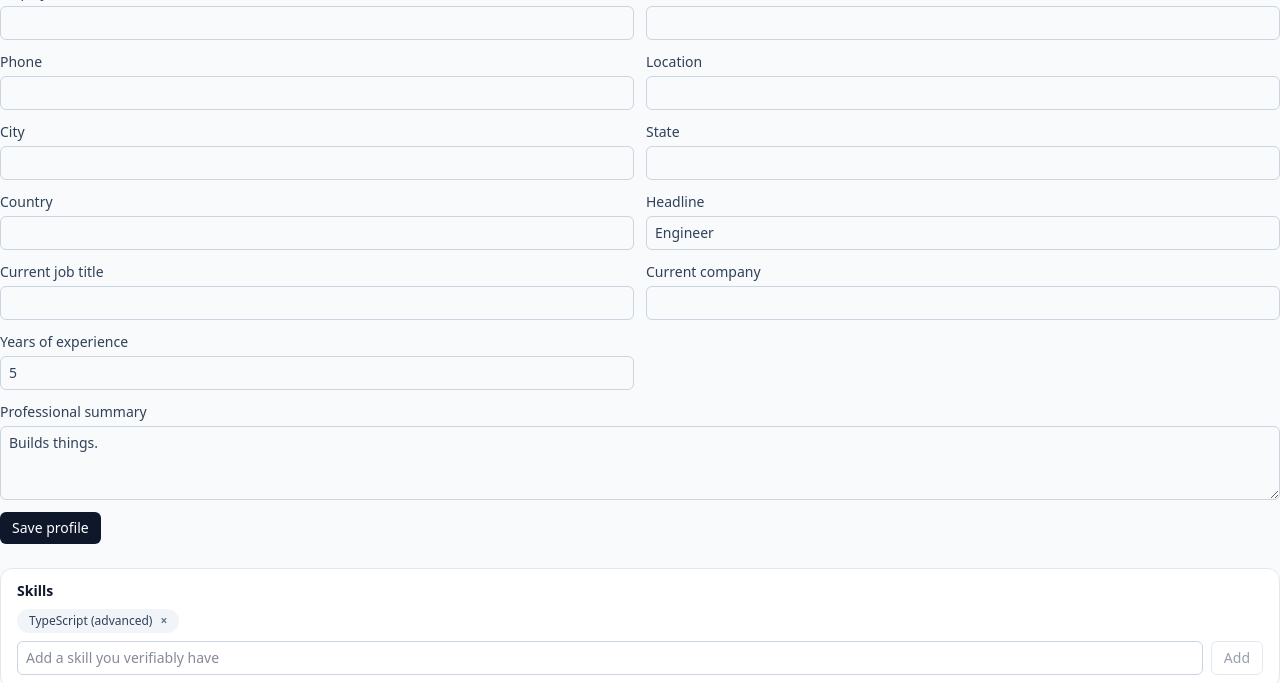
ProfilePage › adds and removes skills
The image size is (1280, 683).
(page scrolled)
Check: the list item "TypeScript (advanced)" is shown, box [17,609,179,633]
Step 1. Type "React" into the field named "New skill name" → (610, 658), box [17,641,1203,675]
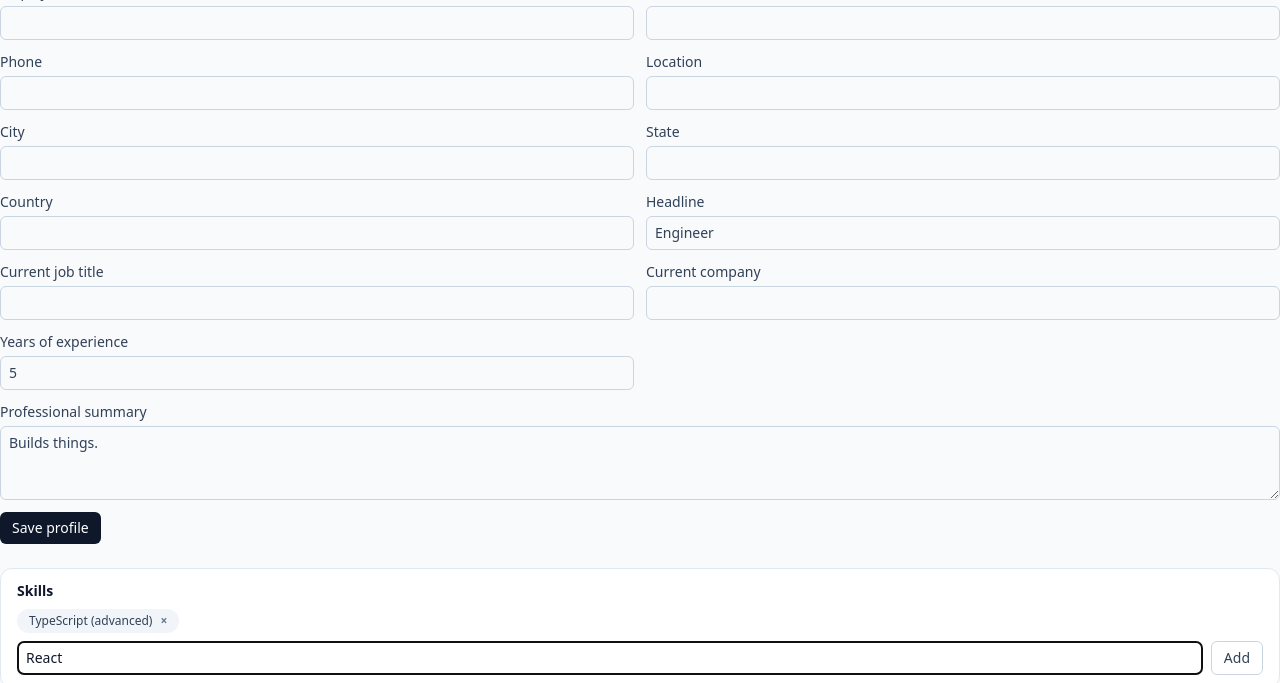
Step 2. Click the button "Add" → click(1237, 658), box [1211,641,1263,675]
(page scrolled)
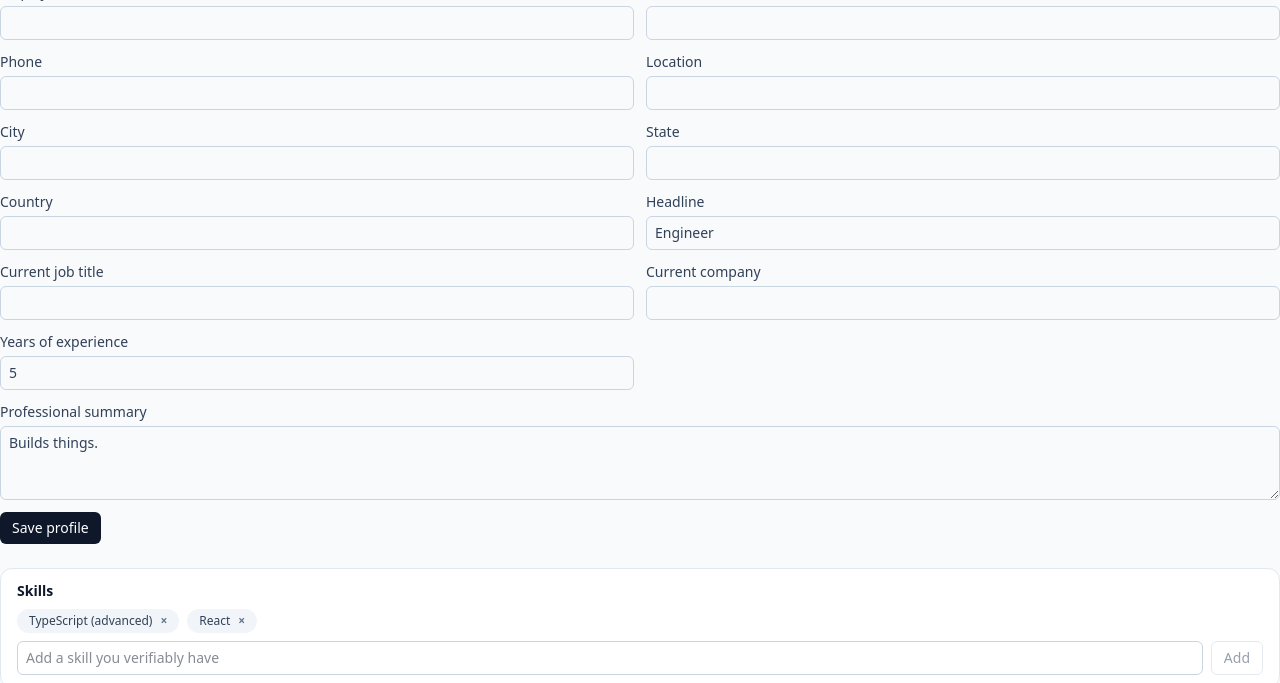
Step 3. Click the button named "Remove skill TypeScript" → click(164, 621), box [160,613,167,629]
(page scrolled)
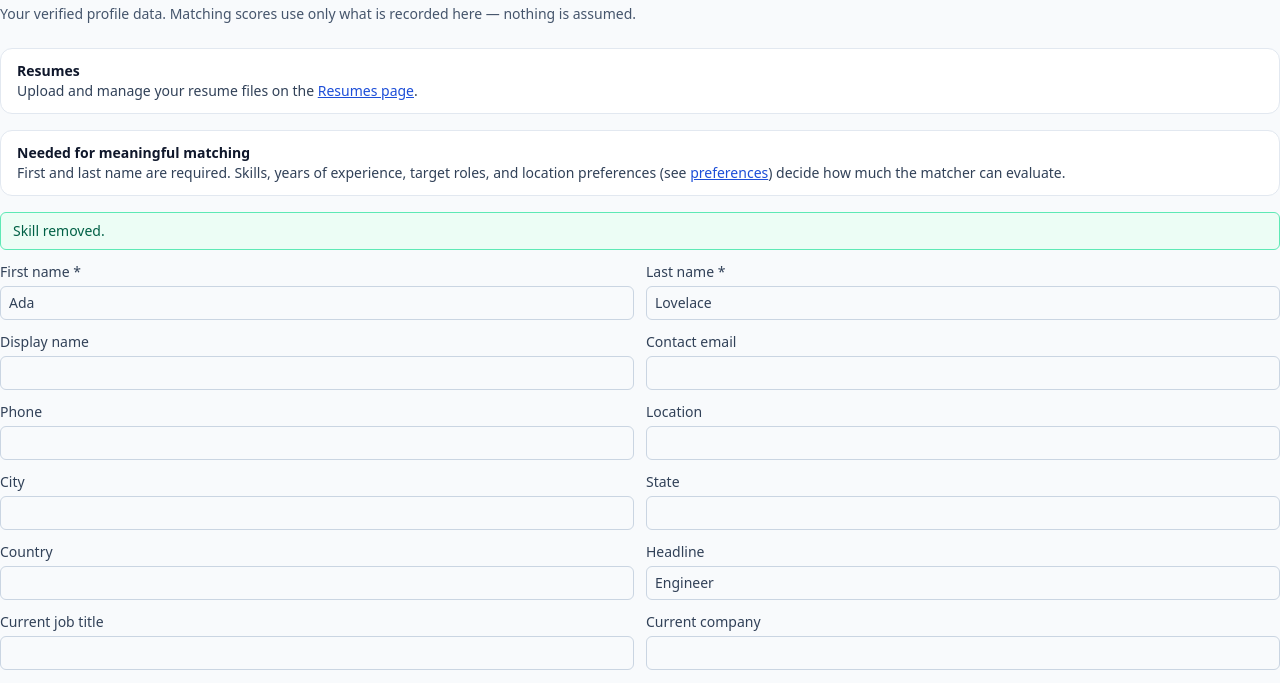
Check: the text "Skill removed." is shown, box [0,212,1279,250]
